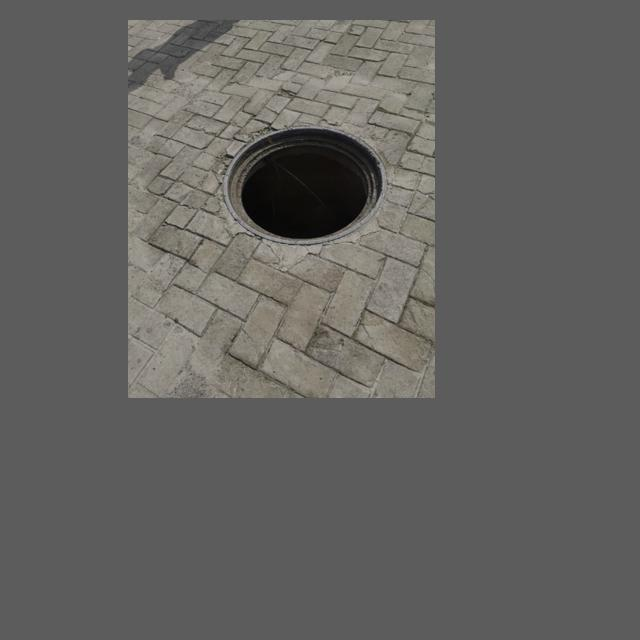lose: (213, 121, 390, 246)
